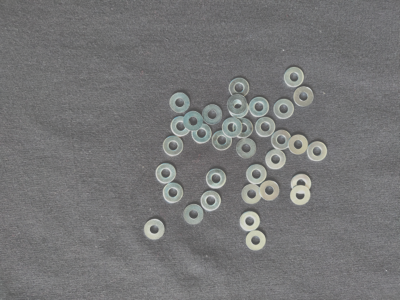circle: (169, 92, 191, 114), (284, 66, 305, 88), (274, 98, 295, 120), (249, 96, 270, 118), (155, 163, 176, 185), (144, 220, 166, 241), (294, 86, 315, 107), (202, 104, 223, 125), (212, 130, 233, 151), (255, 117, 276, 138), (307, 141, 328, 162), (271, 129, 292, 150), (266, 149, 287, 170), (290, 185, 311, 206), (246, 230, 267, 251), (206, 168, 227, 189), (229, 97, 249, 119), (229, 78, 250, 98), (171, 116, 191, 137), (164, 136, 184, 157), (191, 124, 212, 144), (236, 138, 256, 159), (233, 118, 253, 139), (291, 174, 311, 195), (247, 164, 267, 185), (260, 181, 280, 202), (240, 211, 260, 232), (163, 183, 184, 203), (184, 204, 204, 225), (201, 191, 222, 211), (183, 111, 203, 131), (228, 95, 248, 115), (222, 118, 242, 138), (289, 135, 308, 156), (242, 185, 262, 204)
